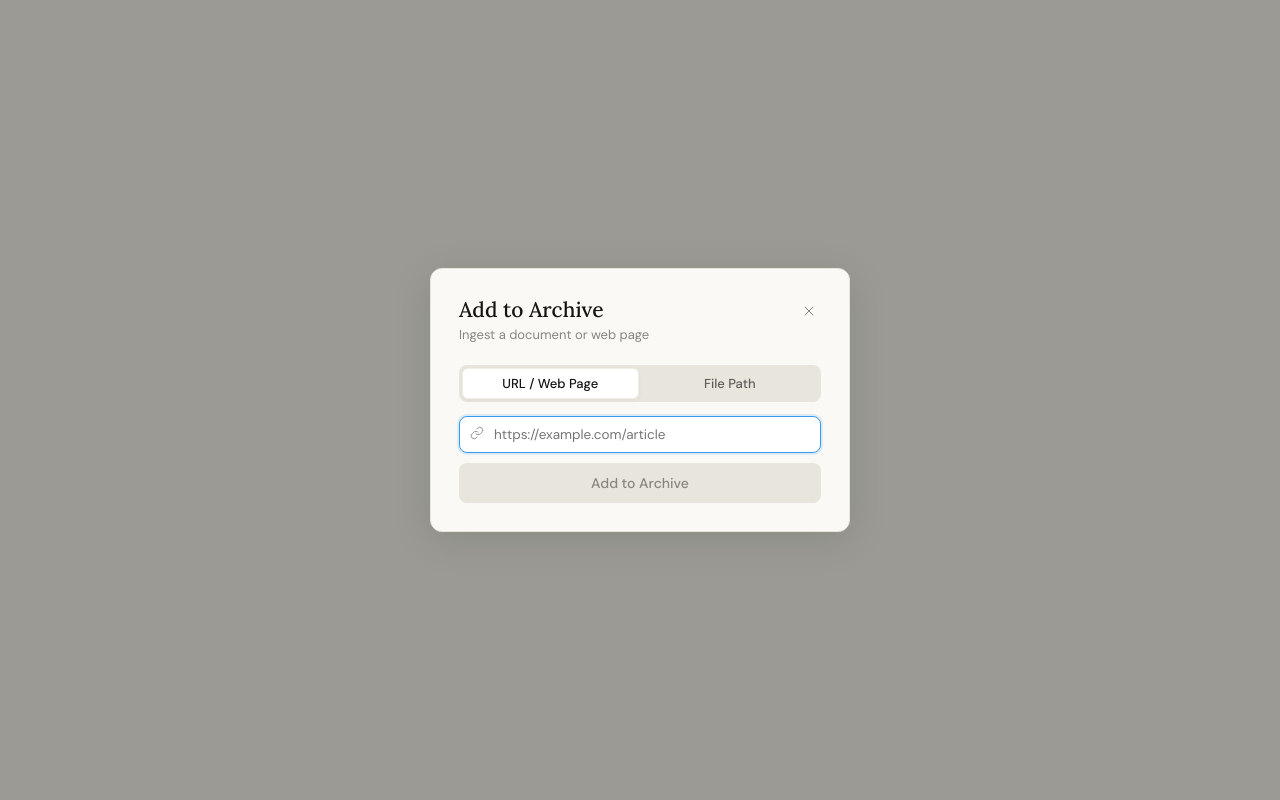
UploadModal › switches to file path tab on click
Click the button "File Path": (730, 384) [642,368,818,400]
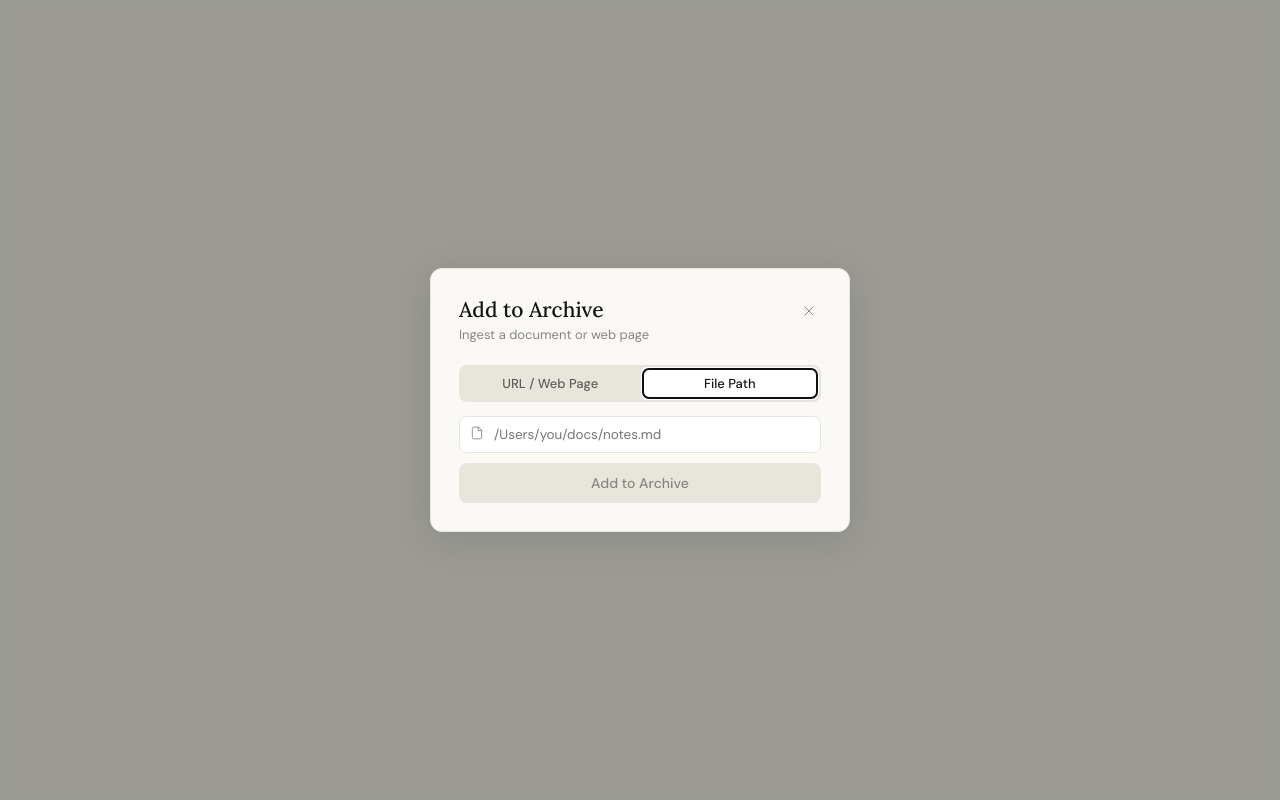
Check: the field with placeholder "/Users/you/docs/notes.md" is shown, box [459,416,821,454]
